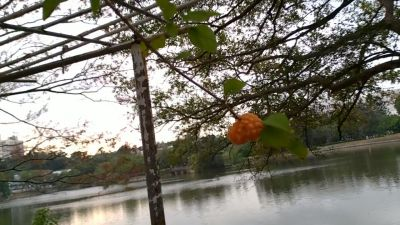eggs: (228, 112, 265, 146)
